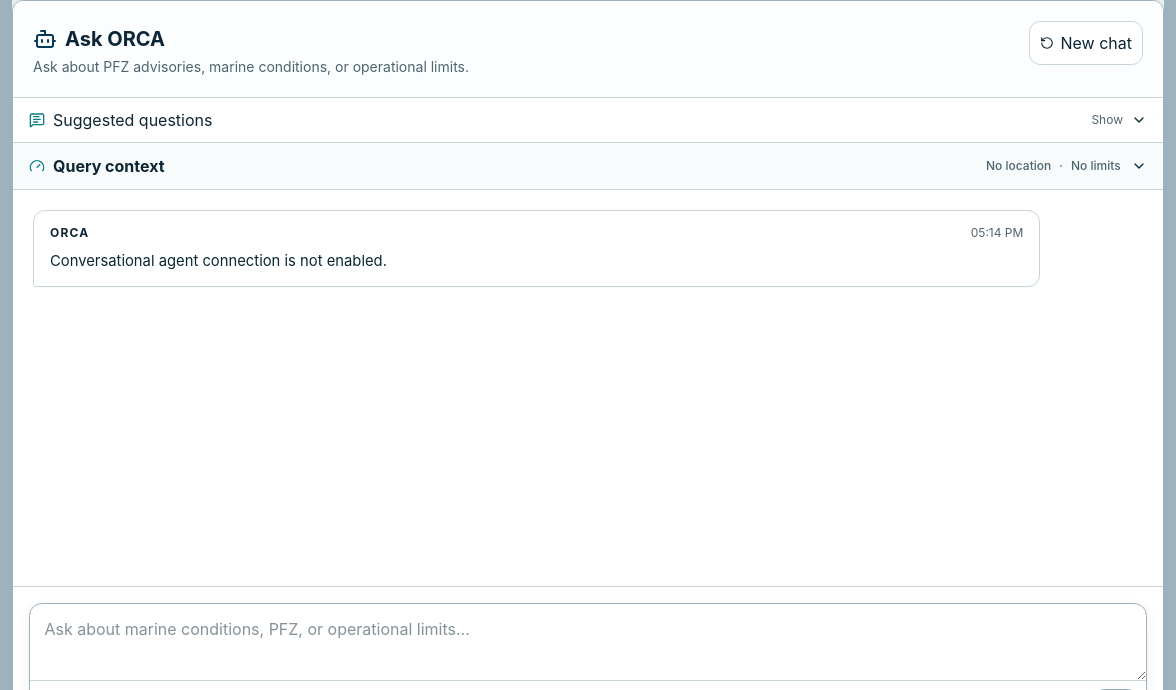
Test: existing messages receive the main viewport while suggestions remain available on demand
The image size is (1176, 690).
Expected: the text "Conversational agent connection is not enabled." is shown, [50, 252, 387, 270]
Expected: the button "Find nearest PFZ advisory" is not shown
Click the button "Suggested questions Show" at (133, 120), box [13, 98, 1163, 142]
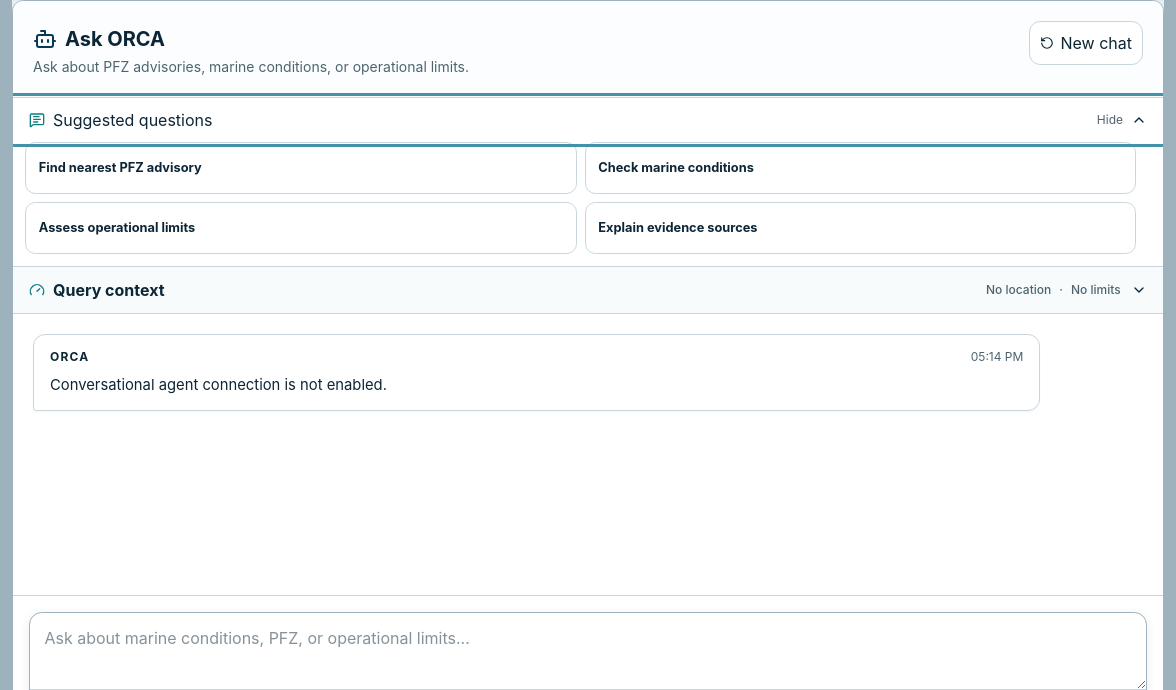
Expected: the button "Find nearest PFZ advisory" is shown, [25, 142, 576, 194]
